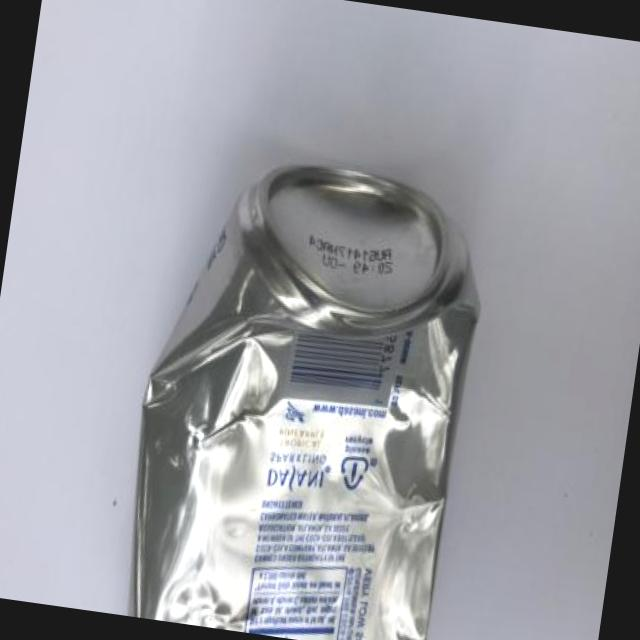kim_loai: (130, 161, 482, 640)
